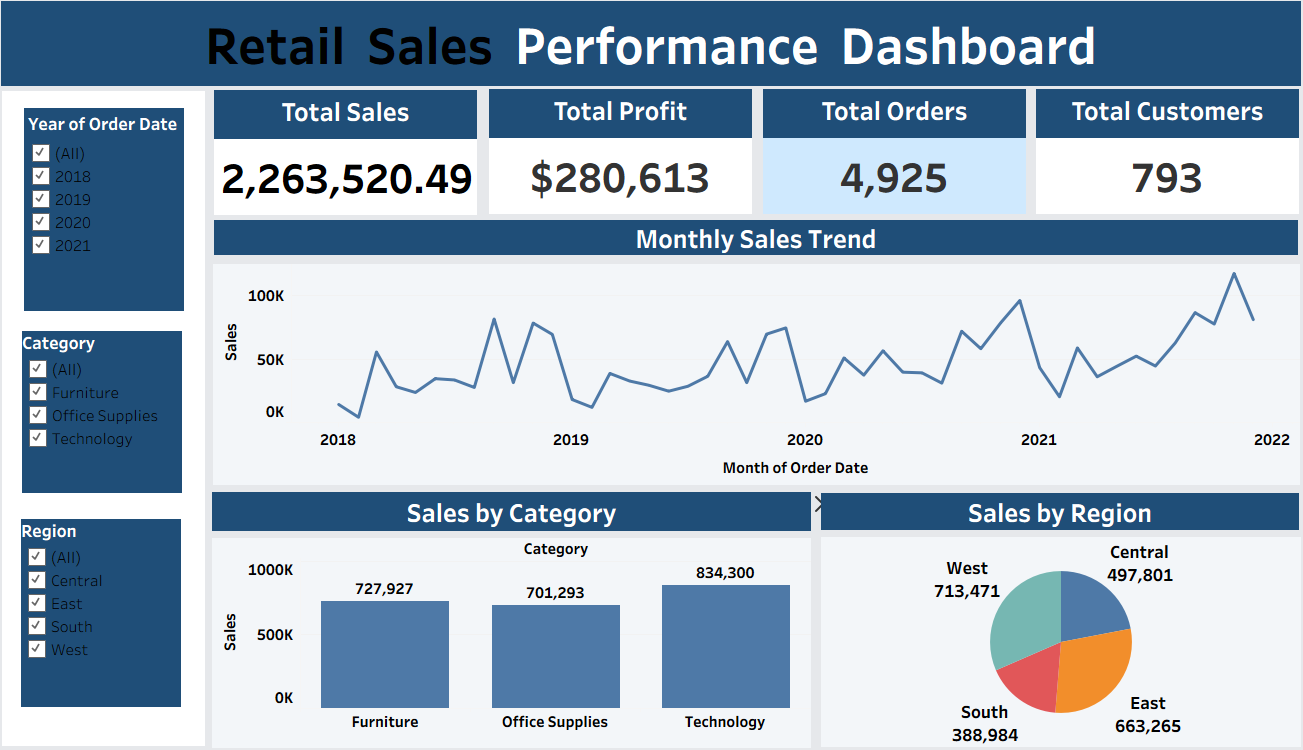

What the dashboard file says about the page in this screenshot:
{"tool":"tableau","page":{"name":"Retail  Sales  Performance  Dashboard","canvas":[1324,768],"ordinal":2},"visuals":[{"type":"title","box":[8,8,1308,93]},{"type":"worksheet","title":"Total Profit","mark":"Automatic","box":[500,100,263,125]},{"type":"worksheet","title":"Total Orders","mark":"Automatic","box":[774,100,263,125]},{"type":"worksheet","title":"Total Customers","mark":"Automatic","box":[1047,100,263,125]},{"type":"blank","box":[8,101,206,659]},{"type":"worksheet","title":"Total Sales","mark":"Automatic","box":[225,101,263,125]},{"type":"filter","title":"Monthly Sales Trend","param":"[federated.1i7p8ud0yrlsvh18nw4hg09q55qu].[yr:Order Date:ok]","box":[35,119,160,203]},{"type":"text","box":[225,231,1084,35]},{"type":"blank","box":[214,238.4,1102,521.6]},{"type":"worksheet","title":"Monthly Sales Trend","mark":"Automatic","rows":["Sales"],"cols":["Order Date"],"box":[224,275,1087,221]},{"type":"filter","title":"Sales by Category","param":"[federated.1i7p8ud0yrlsvh18nw4hg09q55qu].[none:Category:nk]","box":[33,342,160,162]},{"type":"text","box":[223,503,599,39]},{"type":"dashboard-object","box":[822,503,24,24]},{"type":"text","box":[832,504,478,37]},{"type":"filter","title":"Sales by Region","param":"[federated.1i7p8ud0yrlsvh18nw4hg09q55qu].[none:Region:nk]","box":[32,530,160,188]},{"type":"worksheet","title":"Sales by Region","mark":"Pie","box":[832,548,480,210]},{"type":"worksheet","title":"Sales by Category","mark":"Automatic","rows":["Sales"],"cols":["Category"],"box":[223,549,599,210]}]}

Visuals, with their boxes in screenshot pixels (x1, y1, x2, y2), scaled from the page's 1324x768 canvas onto the 1303x750 screenshot:
title: 8 8 1295 99
"Total Profit" worksheet: 492 98 751 220
"Total Orders" worksheet: 762 98 1021 220
"Total Customers" worksheet: 1030 98 1289 220
blank: 8 99 211 742
"Total Sales" worksheet: 221 99 480 221
"Monthly Sales Trend" filter: 34 116 192 314
text: 221 226 1288 260
blank: 211 233 1295 742
"Monthly Sales Trend" worksheet: 220 269 1290 484
"Sales by Category" filter: 32 334 190 492
text: 219 491 809 529
dashboard-object: 809 491 833 515
text: 819 492 1289 528
"Sales by Region" filter: 31 518 189 701
"Sales by Region" worksheet (Pie marks): 819 535 1291 740
"Sales by Category" worksheet: 219 536 809 741
